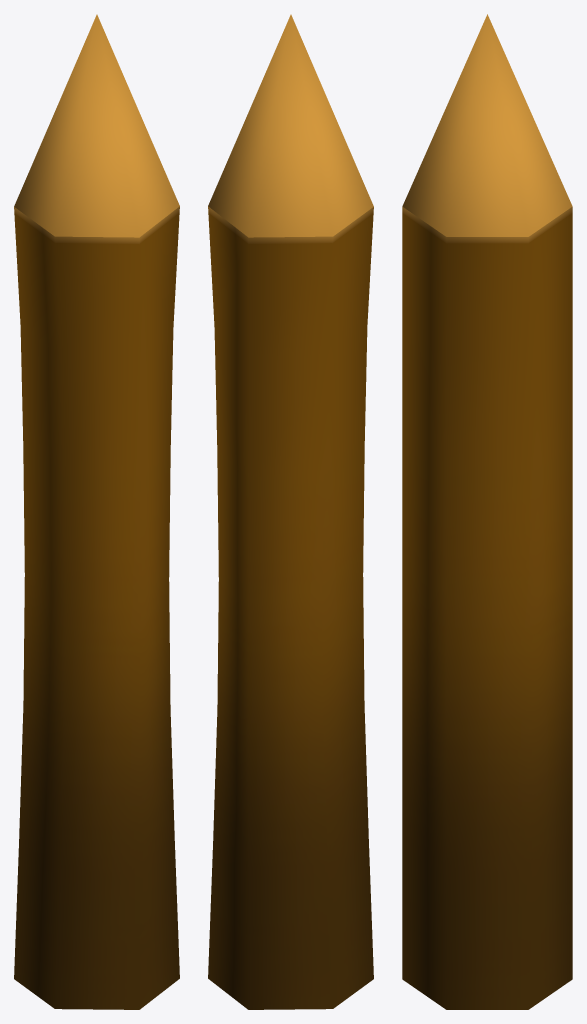
File: Mesh_Pieu01.fbx
3 renders of one model, left to right at view 1: azimuth 30°, elevation 25°; view 2: azimuth 150°, elevation 25°; view 3: azimuth 270°, elevation 25°, orthographic.
Parts seen in each view (by area): view 1: MESH_Pieu01; view 2: MESH_Pieu01; view 3: MESH_Pieu01.
Boxes of the visible parts, x1,y1,x2,y2 form: MESH_Pieu01: (14, 14, 179, 1009); MESH_Pieu01: (208, 14, 373, 1009); MESH_Pieu01: (402, 14, 572, 1009).
Bounding box in the file's own units: 0.285 × 2.1 × 0.336.
